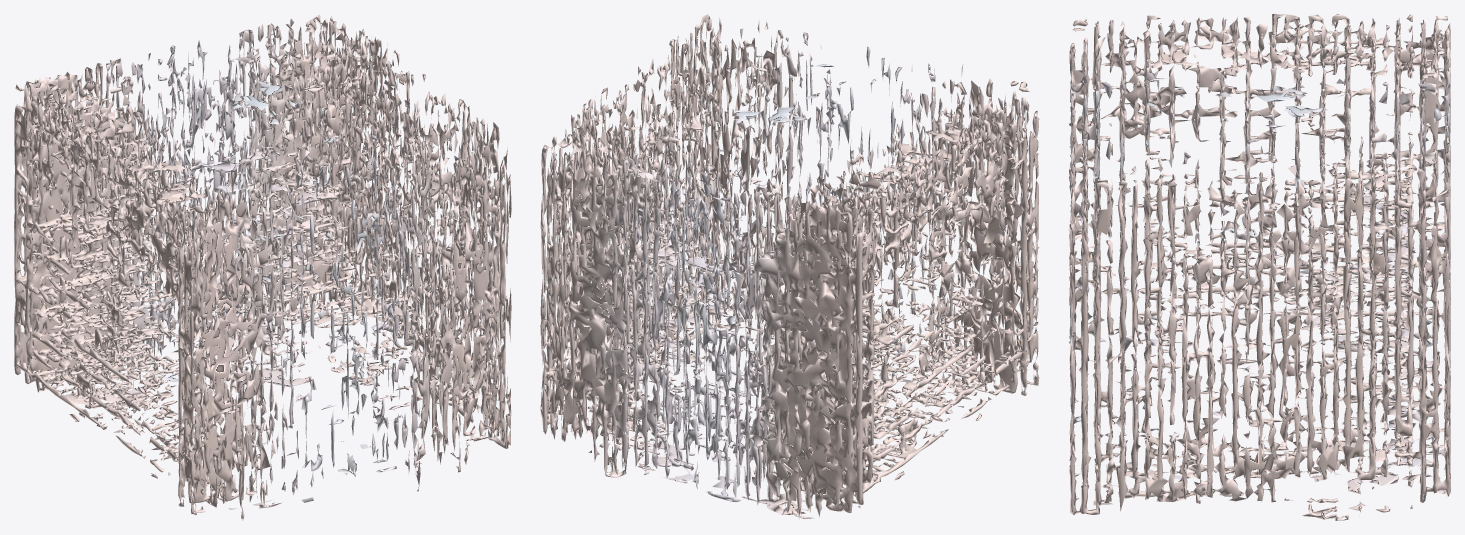
File: workshop_anvil.glb
3 views of the same model, side by side, from view 1: azimuth 30°, elevation 25°; view 2: azimuth 150°, elevation 25°; view 3: azimuth 270°, elevation 25° (orthographic). The views are drawn at different scales.
Parts seen in each view (by area): view 1: world; view 2: world; view 3: world.
Part boxes in pixels (x1=…): world: x1=14, y1=14, x2=511, y2=520; world: x1=540, y1=14, x2=1039, y2=520; world: x1=1068, y1=14, x2=1450, y2=520.
Bounding box in the file's own units: 0.9887 × 0.9914 × 0.9554.
Materials: 1 (1 with a texture image).
